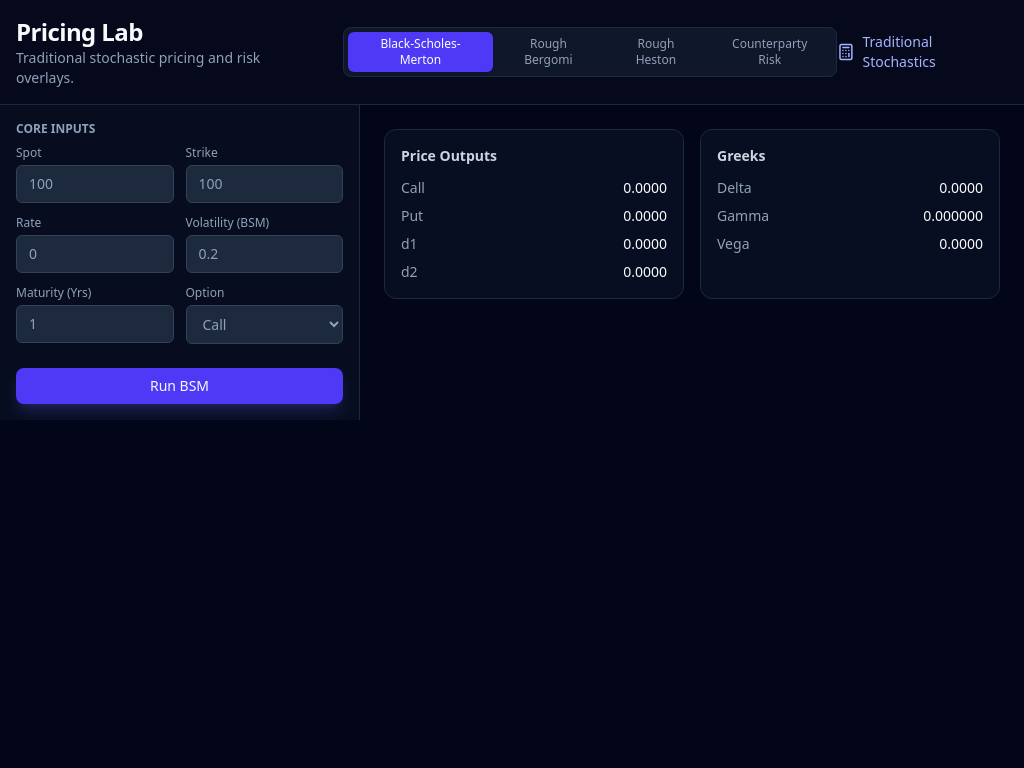
it: PricingTab › should switch to Credit Risk and run simulation
Click the button "Counterparty Risk": click(770, 52) [708,32,832,72]
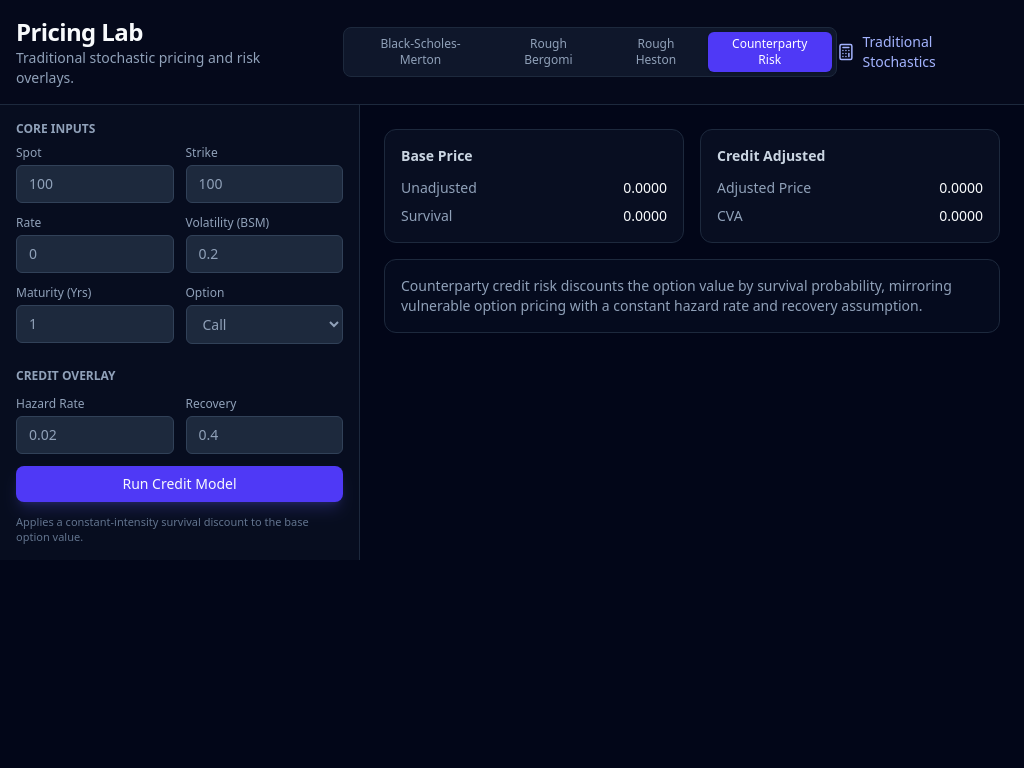
Click the button "Run Credit Model": click(180, 484) [16,466,343,502]
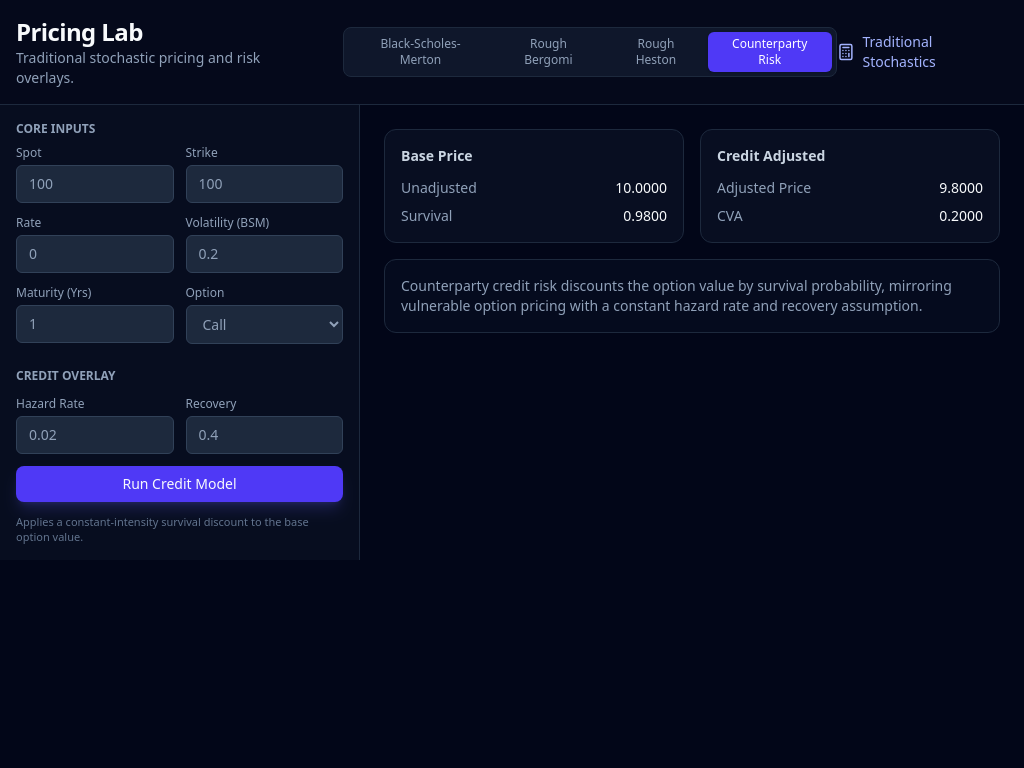
expect the text "9.8000" is shown: met, box [939,178,983,198]
